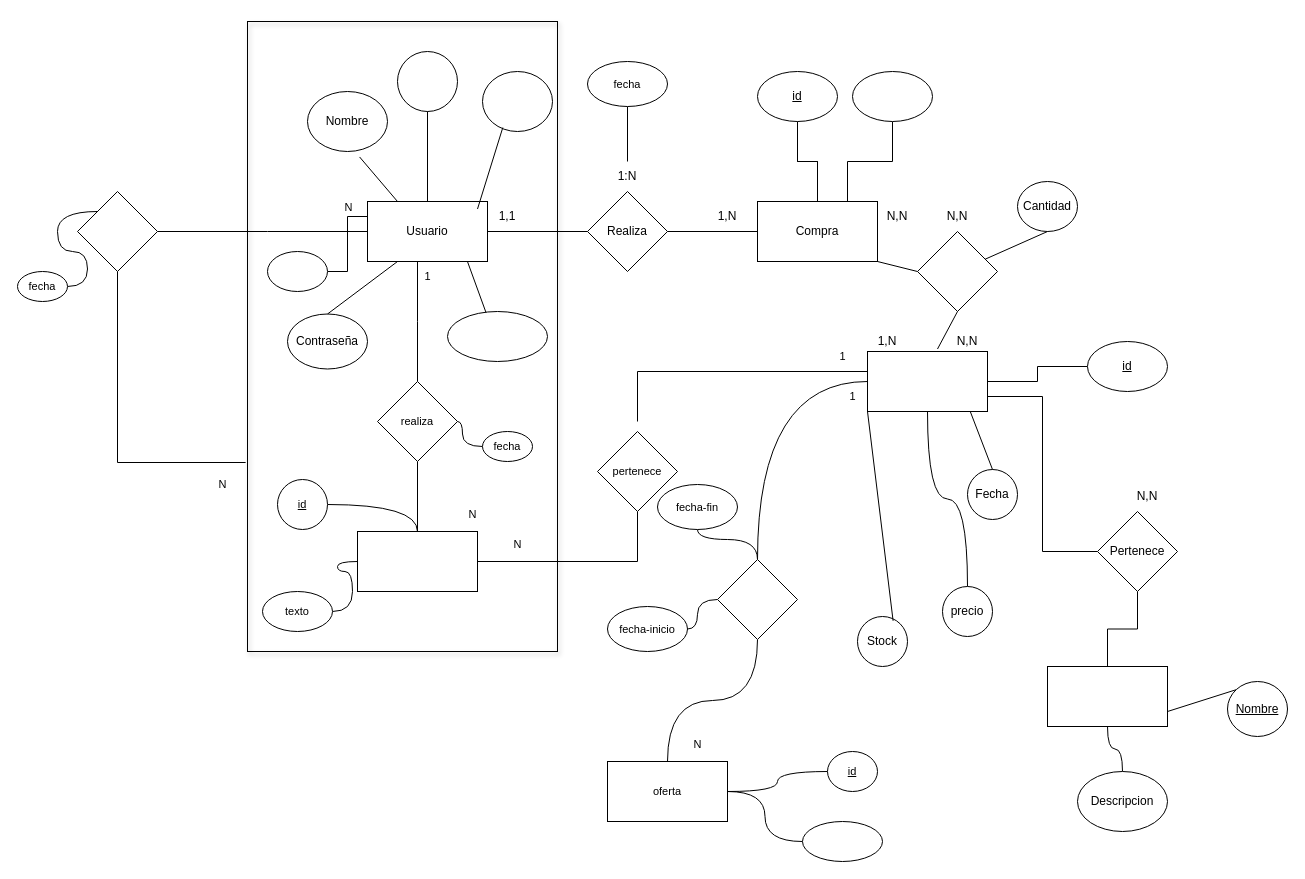
Some shapes in this 1305 by 879 pixel diagram are drawn without their labels. Each missing label, with the centre of its shape:
"Apellido" goes at (x=517, y=101).
"Categoria" goes at (x=1107, y=696).
"comenta" goes at (x=117, y=231).
"comentario" goes at (x=417, y=561).
"Contiene" goes at (x=957, y=271).
"descuento" goes at (x=842, y=841).
"Email" goes at (x=427, y=81).
"estado" goes at (x=892, y=96).
"ISAdmin" goes at (x=497, y=336).
"Productos" goes at (x=927, y=381).
"Telefono" goes at (x=297, y=271).
"tiene" goes at (x=757, y=599).
